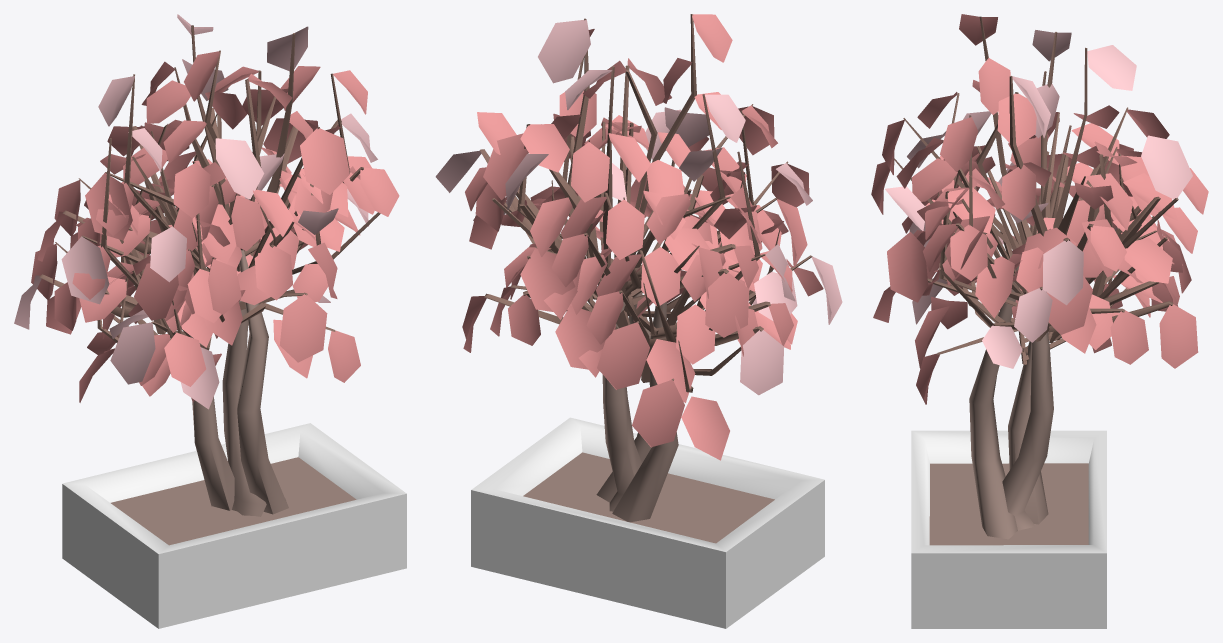
File: flower_017.fbx
3 views of the same model, side by side, from view 1: azimuth 30°, elevation 25°; view 2: azimuth 150°, elevation 25°; view 3: azimuth 270°, elevation 25° (orthographic). The views are drawn at different scales.
Parts seen in each view (by area): view 1: flower_017; view 2: flower_017; view 3: flower_017.
Part boxes in pixels (x1,y1,x2,y2): flower_017: (14,14,406,628); flower_017: (435,14,842,628); flower_017: (871,14,1208,628).
Bounding box in the file's own units: 58.1 × 48.36 × 84.88.
